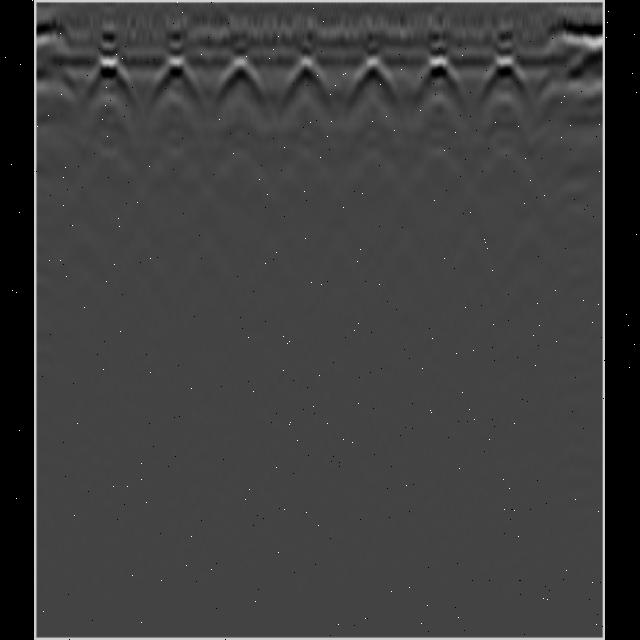hyperbola: (147, 54, 211, 104), (216, 53, 274, 105), (85, 53, 143, 105), (347, 54, 403, 104), (414, 54, 470, 104), (482, 50, 534, 100), (282, 54, 332, 102)
